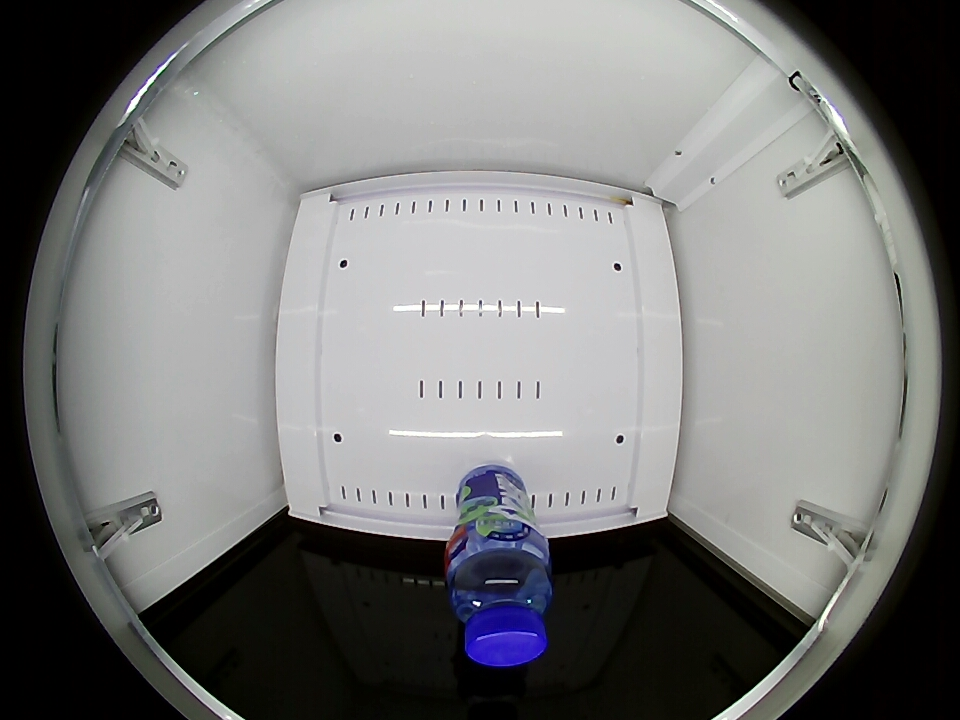maidong: (447, 542, 553, 668)
